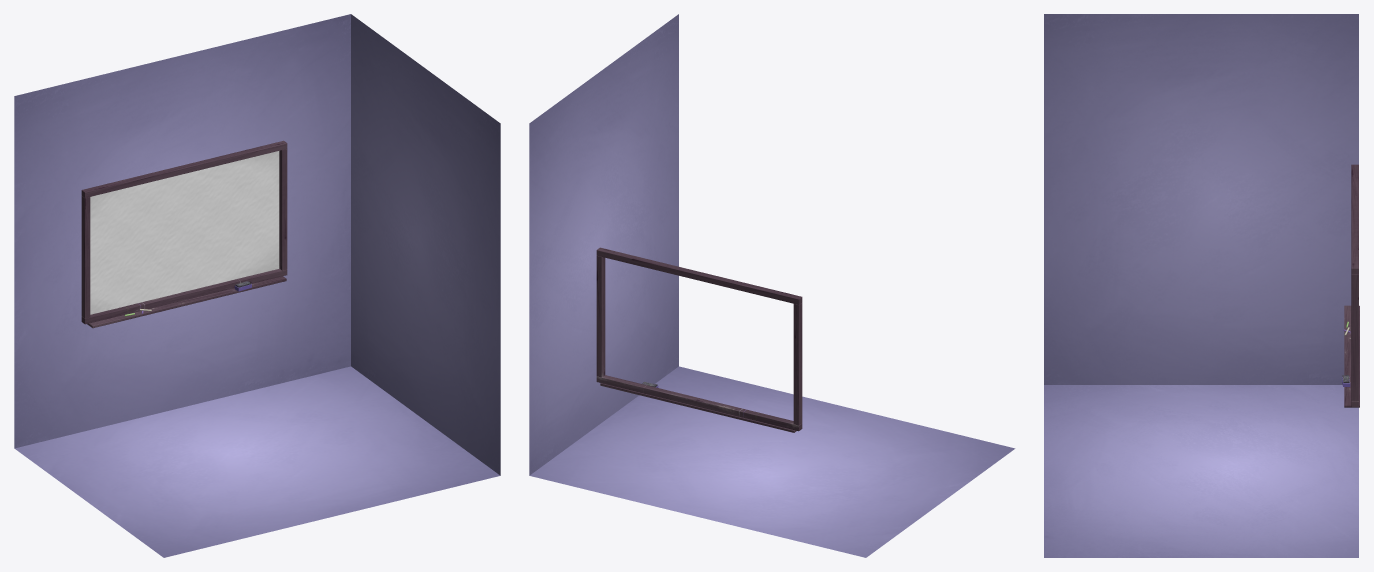
Rendered from blender_scene.gltf.
3 views of the same model, side by side, from view 1: azimuth 30°, elevation 25°; view 2: azimuth 150°, elevation 25°; view 3: azimuth 270°, elevation 25° (orthographic). The views are drawn at different scales.
Visible parts, largest first — view 1: wall, blackboard, borderT, borderB, borderL, tray, borderR; view 2: wall, borderT, borderB, borderL, borderR, tray; view 3: wall, borderR, borderT, tray.
Boxes of the visible parts, bbox=[...] form: wall: bbox=[14, 14, 500, 557]; blackboard: bbox=[90, 151, 279, 314]; borderT: bbox=[81, 140, 287, 197]; borderB: bbox=[81, 268, 287, 324]; borderL: bbox=[81, 196, 90, 318]; tray: bbox=[87, 276, 286, 328]; borderR: bbox=[279, 149, 287, 270]; wall: bbox=[529, 14, 1015, 557]; borderT: bbox=[596, 247, 802, 304]; borderB: bbox=[596, 375, 802, 431]; borderL: bbox=[793, 303, 802, 425]; borderR: bbox=[596, 256, 605, 377]; tray: bbox=[600, 383, 796, 432]; wall: bbox=[1044, 14, 1358, 557]; borderR: bbox=[1351, 274, 1358, 401]; borderT: bbox=[1351, 164, 1358, 274]; tray: bbox=[1344, 305, 1359, 407].
Bounding box in the file's own units: 26 × 26 × 20.06.
Materials: 12 (9 with a texture image).
